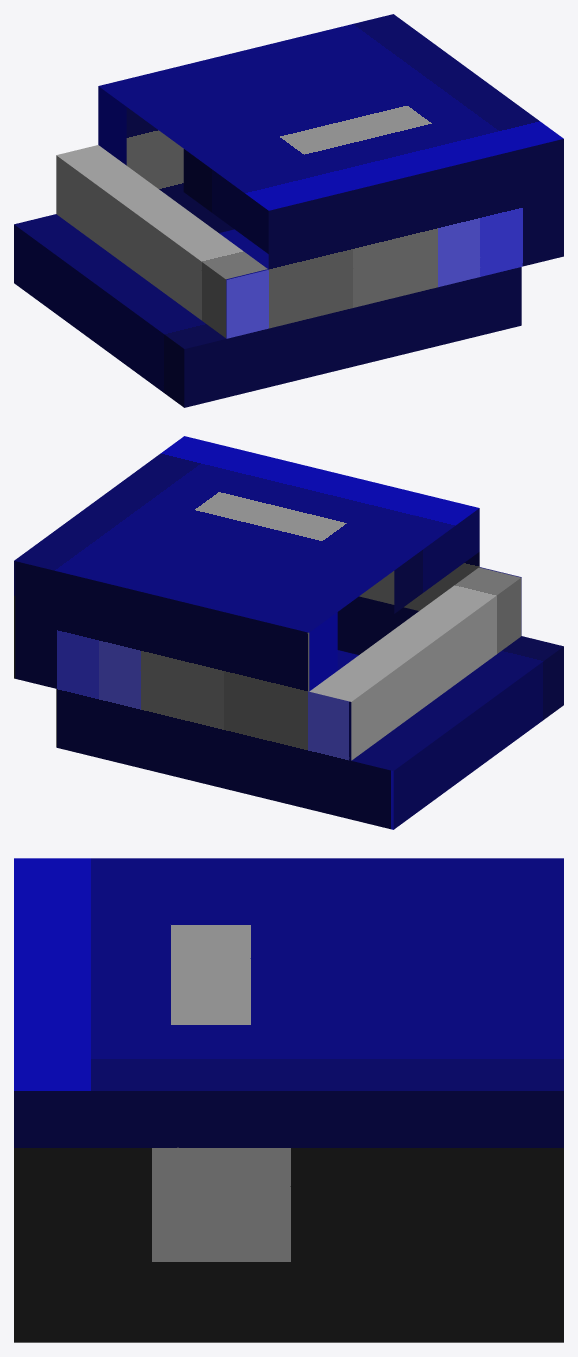
Rendered from book_0x282_25.obj.
3 views of the same model, one above another, from view 1: azimuth 30°, elevation 25°; view 2: azimuth 150°, elevation 25°; view 3: azimuth 270°, elevation 25° (orthographic). The views are drawn at different scales.
Parts seen in each view (by area): view 1: Cube; view 2: Cube; view 3: Cube.
Part boxes in pixels (box(x1,y1,x2,y2)): Cube: box(14, 14, 563, 407); Cube: box(14, 436, 563, 829); Cube: box(14, 858, 563, 1342).
Bounding box in the file's own units: 0.5625 × 0.25 × 0.4375.
